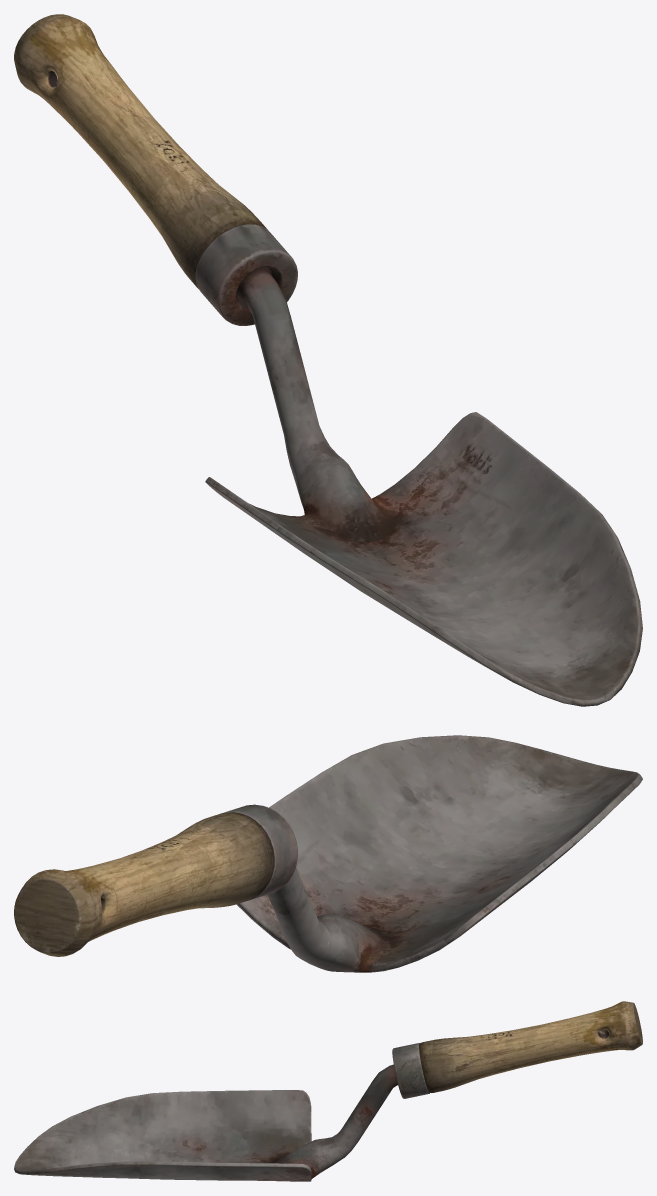
File: trowel_01.glb
3 renders of one model, top to bottom at view 1: azimuth 30°, elevation 25°; view 2: azimuth 150°, elevation 25°; view 3: azimuth 270°, elevation 25°, orthographic. The views are drawn at different scales.
Visible parts, largest first — view 1: trowel_01; view 2: trowel_01; view 3: trowel_01.
Part boxes in pixels (bbox=[...]): trowel_01: bbox=[14, 14, 642, 706]; trowel_01: bbox=[14, 735, 642, 972]; trowel_01: bbox=[14, 1001, 642, 1181].
Size of the model in its own units: 0.0991 by 0.1026 by 0.3468.
Materials: 1 (1 with a texture image).
